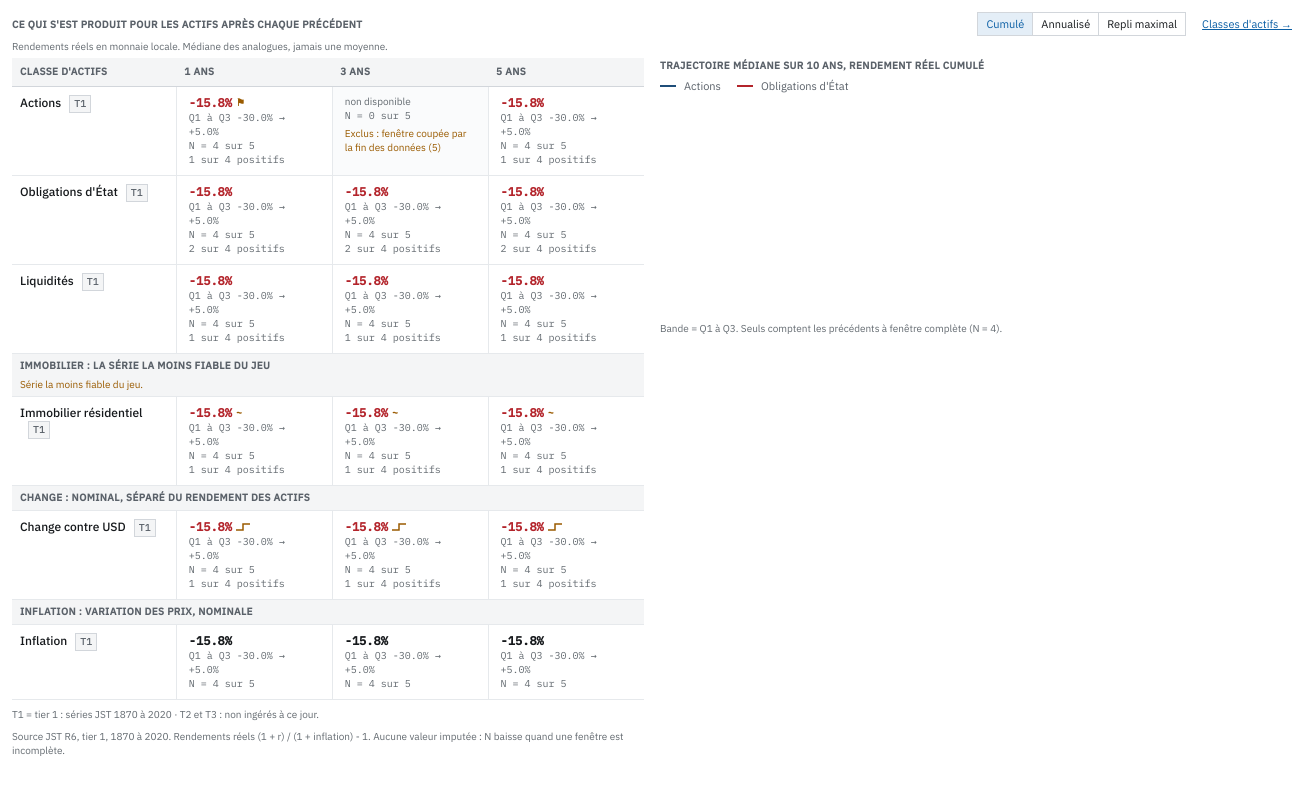
Test: AssetReturnsBlock › switches the displayed measure and says drawdown is a lower bound
This screenshot has width=1304, height=812.
Expected: the column heading "Actions T1" is shown, [12, 86, 176, 175]
Click the button "Annualisé" at (1066, 24), box [1033, 13, 1099, 35]
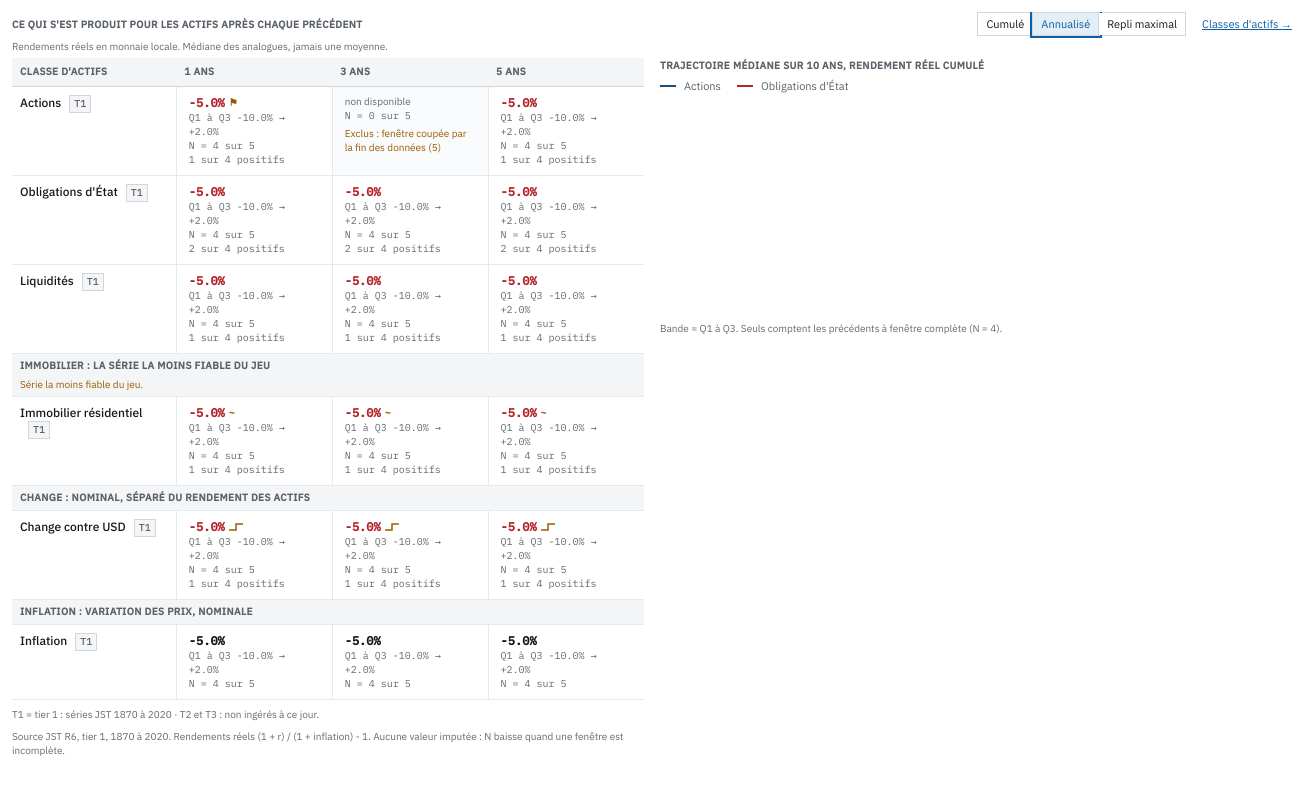
Now the 1st text "-5.0%" is shown, box [189, 94, 225, 110]
Click the button "Repli maximal" at (1142, 24), box [1099, 13, 1185, 35]
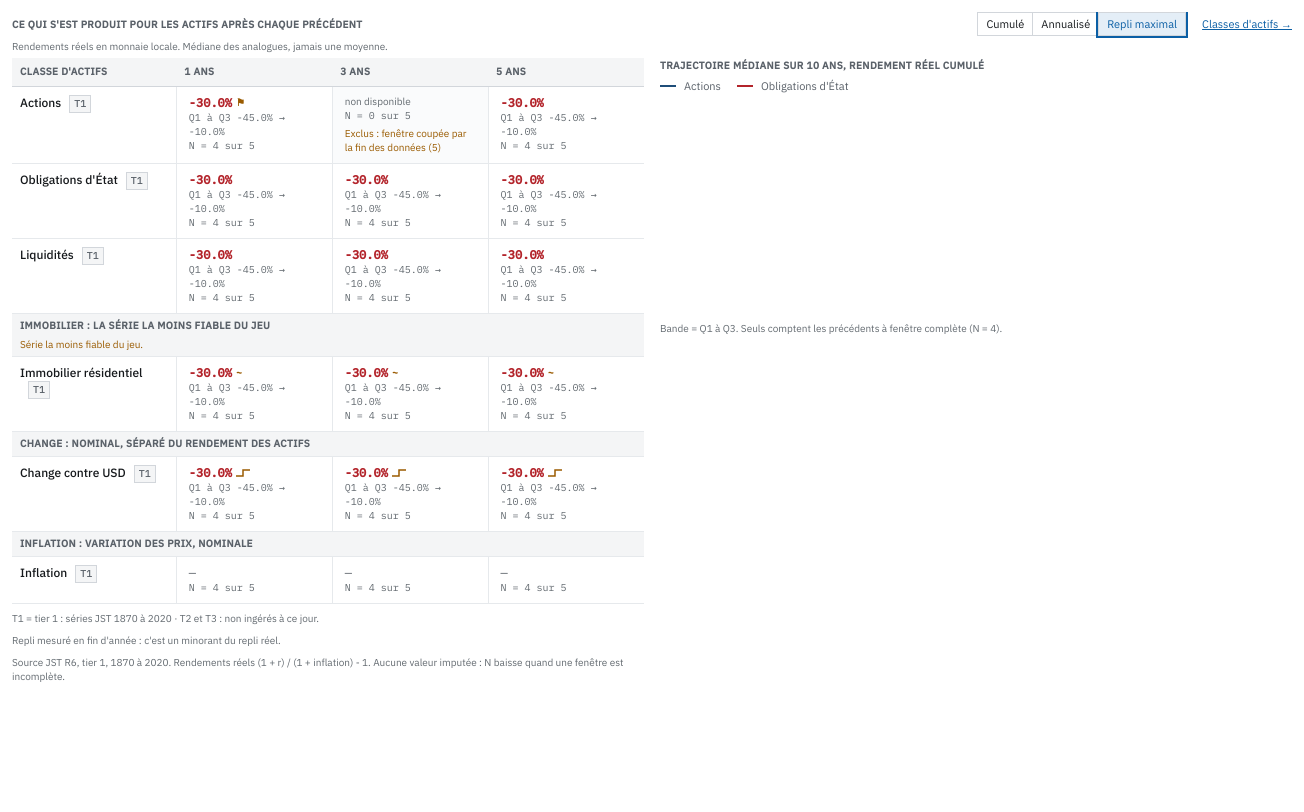
Now the 1st text "-30.0%" is shown, box [189, 94, 232, 110]
Now the text "minorant du repli réel" is shown, box [12, 634, 281, 646]
